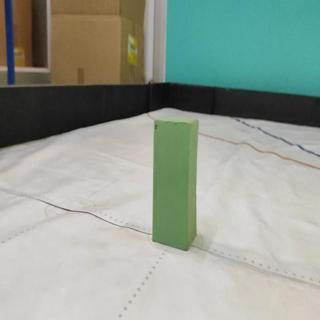greenbox: (151, 114, 201, 252)
